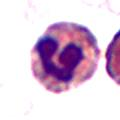eosi: (27, 20, 102, 94)
